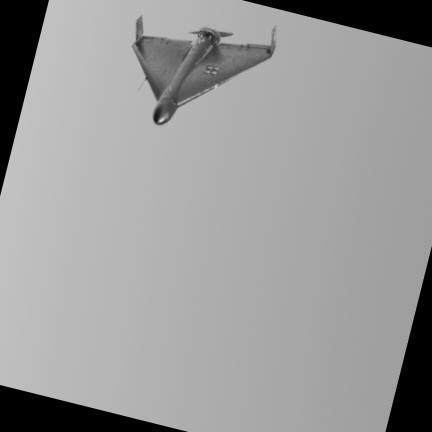Shahed: (131, 16, 274, 123)
